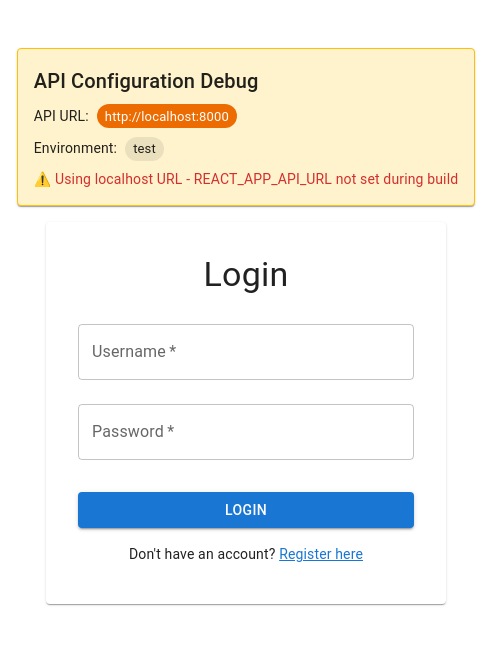
Test: Login Component › Form Submission › should display generic error message when no detail provided
Type "testuser" into the field labelled "Username *" at [246, 352], box [78,324,414,380]
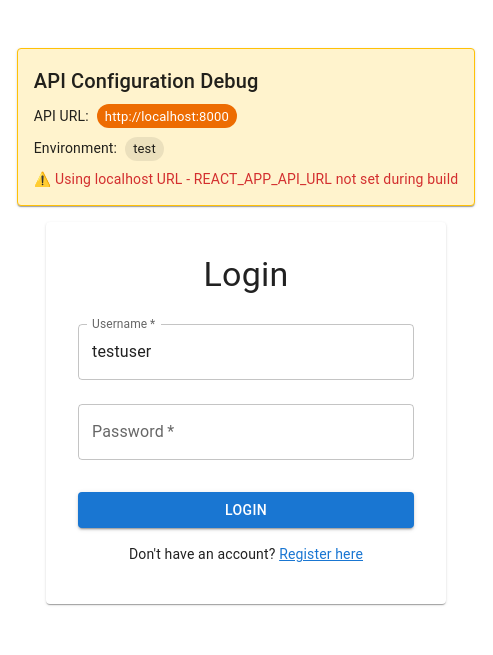
Type "testpass" into the password field labelled "Password *" at [246, 432], box [78,404,414,460]
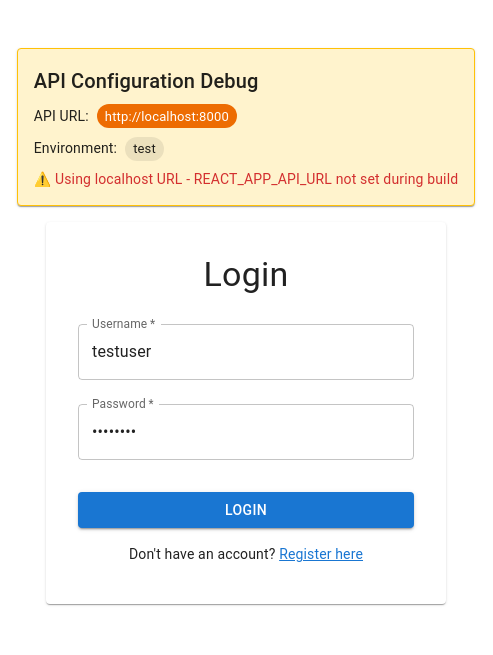
Click the button "Login" at [246, 510], box [78,492,414,528]
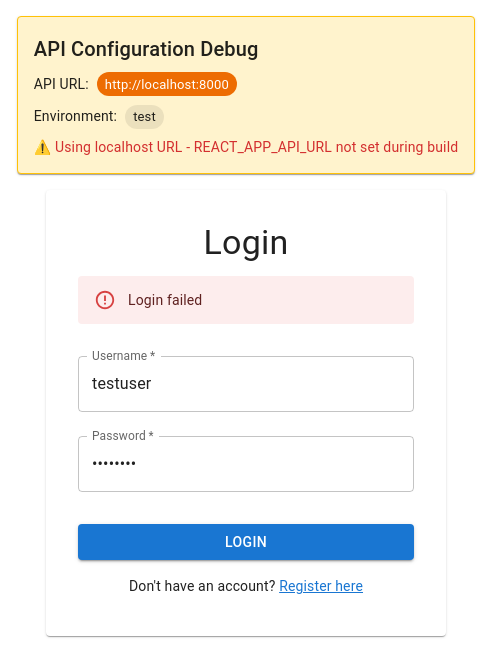
Expected: the text "Login failed" is shown, [128,292,202,308]
